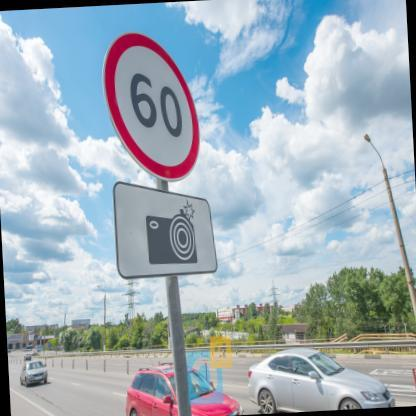road_sign: (104, 33, 199, 180), (114, 180, 216, 278)
